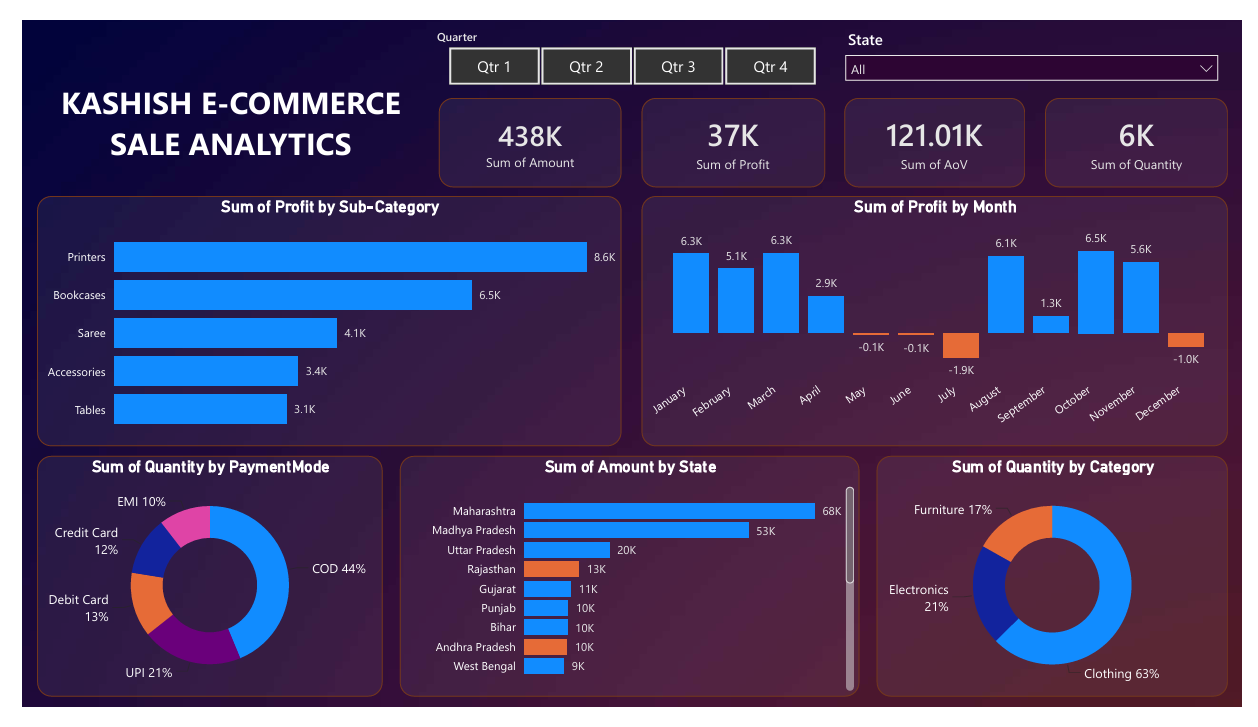

The page's visual inventory and layout, read from the dashboard file:
{"tool":"powerbi","page":{"name":"Dashboard","canvas":[1280,720],"ordinal":0},"visuals":[{"type":"columnChart","title":"Sum of Profit by Month","fields":{"Category":["Orders.Order Date.Variation.Date Hierarchy.Month"],"Y":["Sum(Details.Profit)"]},"box":[650,183.8,616.2,263.2],"z":0},{"type":"barChart","fields":{"Category":["Details.Sub-Category"],"Y":["Sum(Details.Profit)"]},"box":[14.7,183.8,614.7,263.2],"z":1000},{"type":"donutChart","fields":{"Category":["Details.Category"],"Y":["Sum(Details.Quantity)"]},"box":[897.1,457.4,369.1,252.9],"z":2000},{"type":"donutChart","fields":{"Y":["Sum(Details.Quantity)"],"Category":["Details.PaymentMode"]},"box":[14.7,457.4,363.2,252.9],"z":3000},{"type":"cardVisual","fields":{"Data":["Sum(Details.Amount)"]},"box":[436.8,80.9,192.6,94.1],"z":4000},{"type":"cardVisual","fields":{"Data":["Sum(Details.Profit)"]},"box":[650,80.9,192.6,94.1],"z":5000},{"type":"cardVisual","fields":{"Data":["Sum(Details.Quantity)"]},"box":[1073.5,80.9,192.6,94.1],"z":6000},{"type":"cardVisual","fields":{"Data":["Sum(Details.AoV)"]},"box":[863.2,80.9,189.7,94.1],"z":7000},{"type":"barChart","fields":{"Y":["Sum(Details.Amount)"],"Category":["Orders.State"]},"box":[396.3,457.4,482.4,252.9],"z":8000},{"type":"slicer","title":"Quarter","fields":{"Values":["Orders.Order Date.Variation.Date Hierarchy.Quarter"]},"box":[422.5,3,434.6,71.2],"z":9000},{"type":"slicer","fields":{"Values":["Orders.State"]},"box":[854,3,411.9,71.2],"z":10000},{"type":"textbox","box":[15.1,57.5,407.3,96.9],"z":13001}]}

Visuals, with their boxes in screenshot pixels (x1, y1, x2, y2), scaled from the page's 1280x720 canvas onto the 1258x727 screenshot:
"Sum of Profit by Month" columnChart: bbox=(639, 186, 1244, 451)
barChart - Details.Sub-Category x Sum(Details.Profit): bbox=(14, 186, 619, 451)
donutChart - Details.Category x Sum(Details.Quantity): bbox=(882, 462, 1244, 717)
donutChart - Sum(Details.Quantity) x Details.PaymentMode: bbox=(14, 462, 371, 717)
cardVisual - Sum(Details.Amount): bbox=(429, 82, 619, 177)
cardVisual - Sum(Details.Profit): bbox=(639, 82, 828, 177)
cardVisual - Sum(Details.Quantity): bbox=(1055, 82, 1244, 177)
cardVisual - Sum(Details.AoV): bbox=(848, 82, 1035, 177)
barChart - Sum(Details.Amount) x Orders.State: bbox=(389, 462, 864, 717)
"Quarter" slicer: bbox=(415, 3, 842, 75)
slicer - Orders.State: bbox=(839, 3, 1244, 75)
textbox: bbox=(15, 58, 415, 156)
